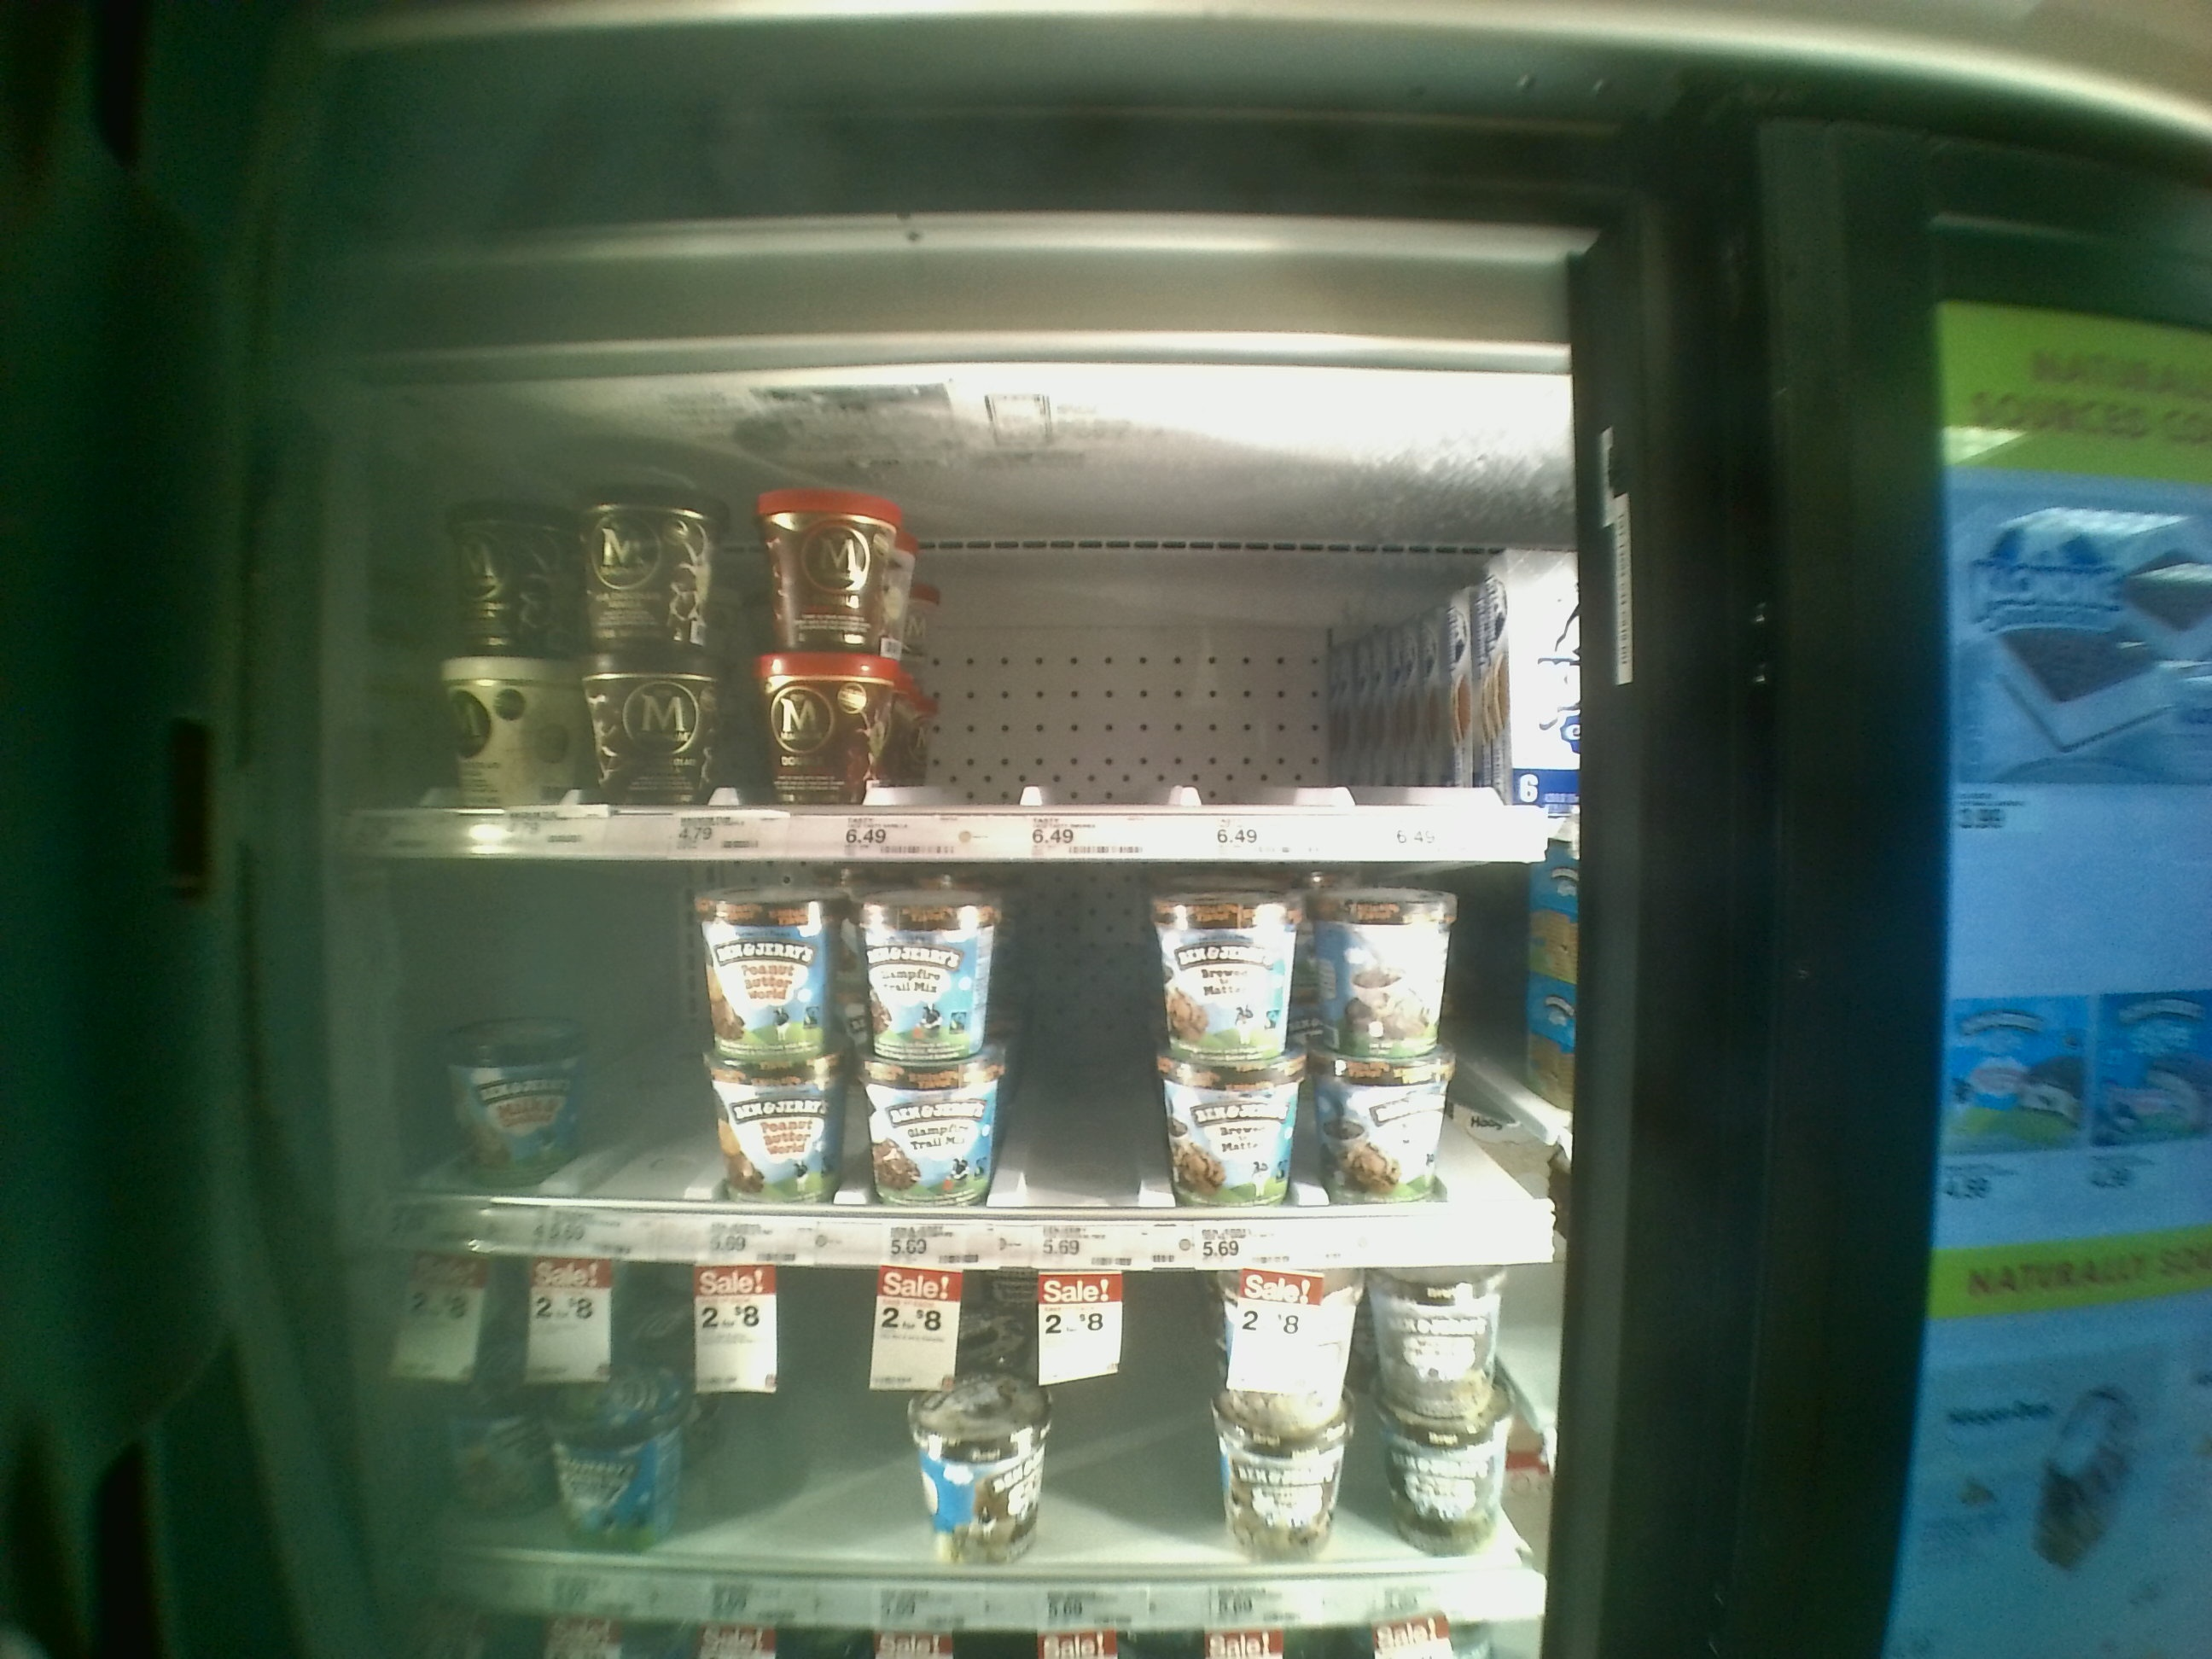shelf: (366, 420, 1566, 859), (366, 859, 1561, 1260), (361, 1263, 1561, 1635)
